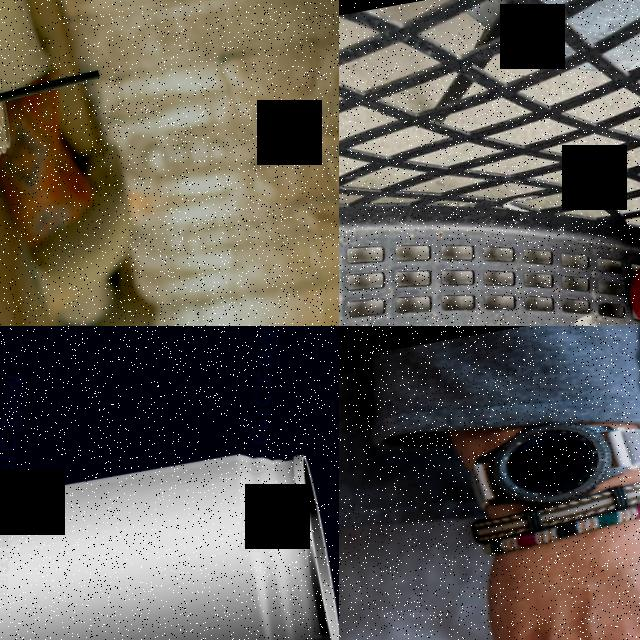can: (0, 437, 339, 640)
